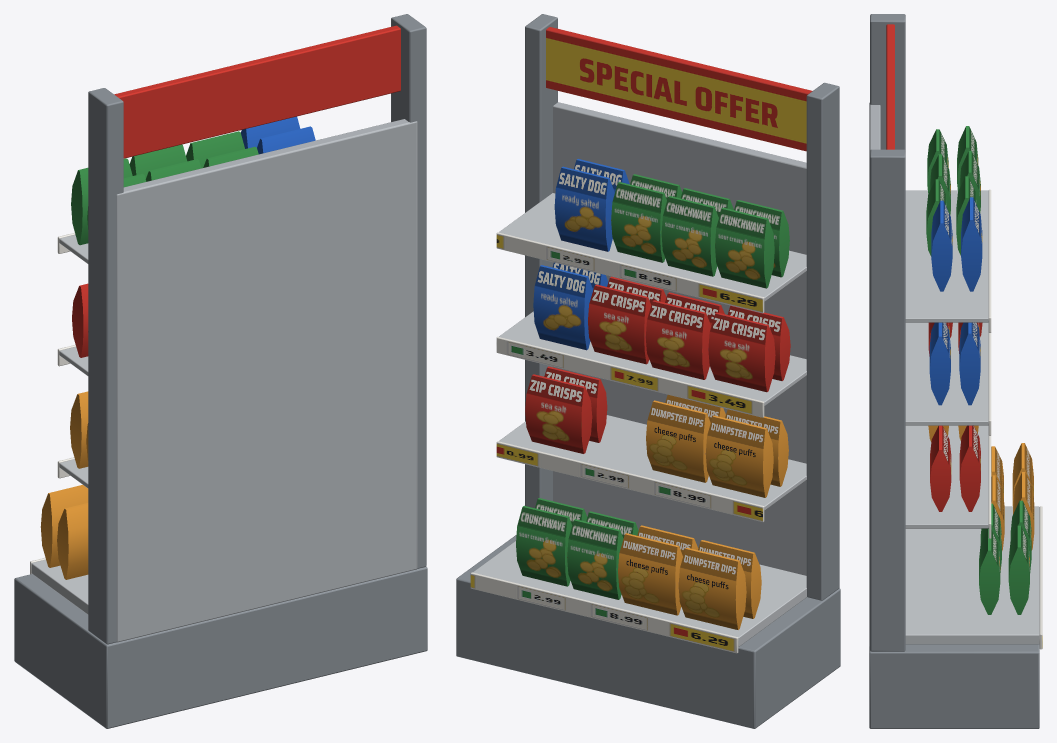
Rendered from endcap_c.glb.
The picture shows the model from 3 angles, left to right: view 1: azimuth 30°, elevation 25°; view 2: azimuth 150°, elevation 25°; view 3: azimuth 270°, elevation 25°; orthographic projection. The views are drawn at different scales.
Visible parts, largest first — view 1: endcap_c; view 2: endcap_c; view 3: endcap_c.
Boxes of the visible parts, x1,y1,x2,y2 form: endcap_c: [14, 14, 427, 728]; endcap_c: [456, 14, 840, 728]; endcap_c: [869, 14, 1042, 728].
Bounding box in the file's own units: 4.8 × 8.9 × 2.44.
Materials: 6 (2 with a texture image).
